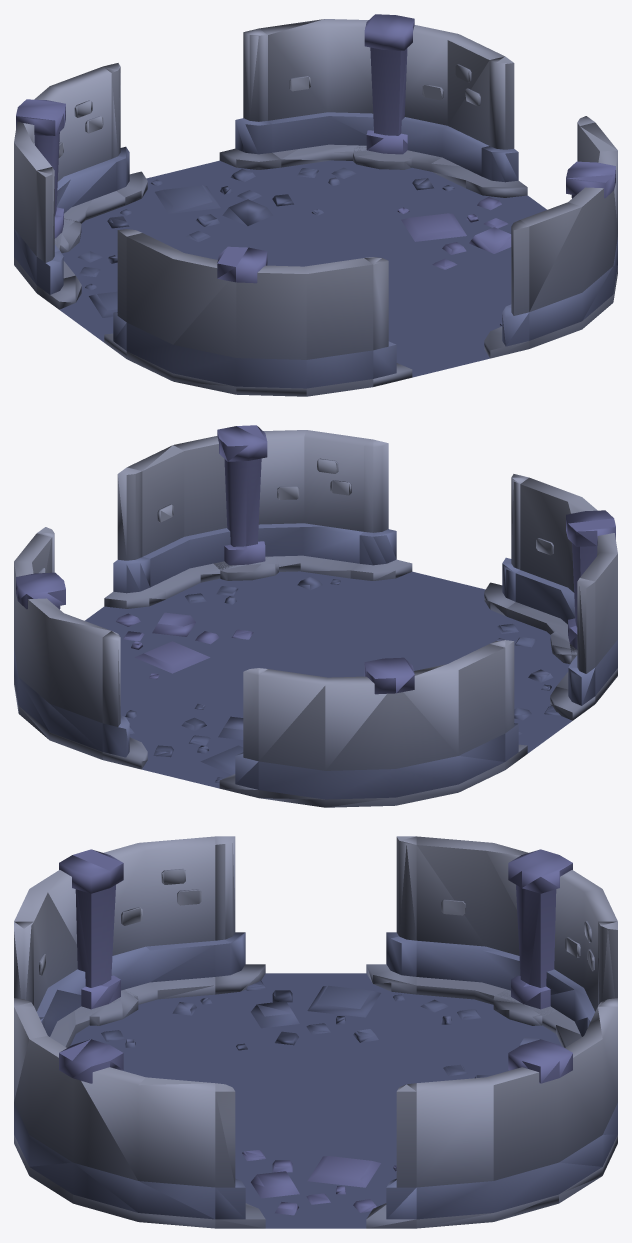
File: room-small_lev2.glb
The picture shows the model from 3 angles, top to bottom: view 1: azimuth 30°, elevation 25°; view 2: azimuth 150°, elevation 25°; view 3: azimuth 270°, elevation 25°; orthographic projection. The views are drawn at different scales.
Parts seen in each view (by area): view 1: room-small_lev2; view 2: room-small_lev2; view 3: room-small_lev2.
Part boxes in pixels (<box>): room-small_lev2: <box>14,14,617,396</box>; room-small_lev2: <box>14,425,617,807</box>; room-small_lev2: <box>14,836,617,1228</box>.
Size of the model in its own units: 12 by 3.13 by 12.
Materials: 1 (1 with a texture image).
